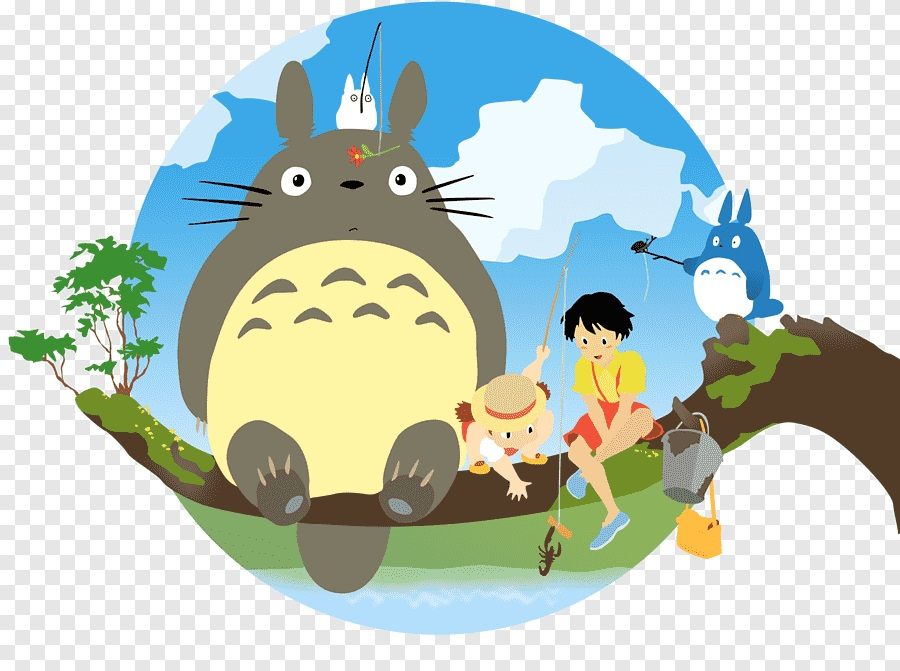Totoro: (174, 57, 509, 593)
